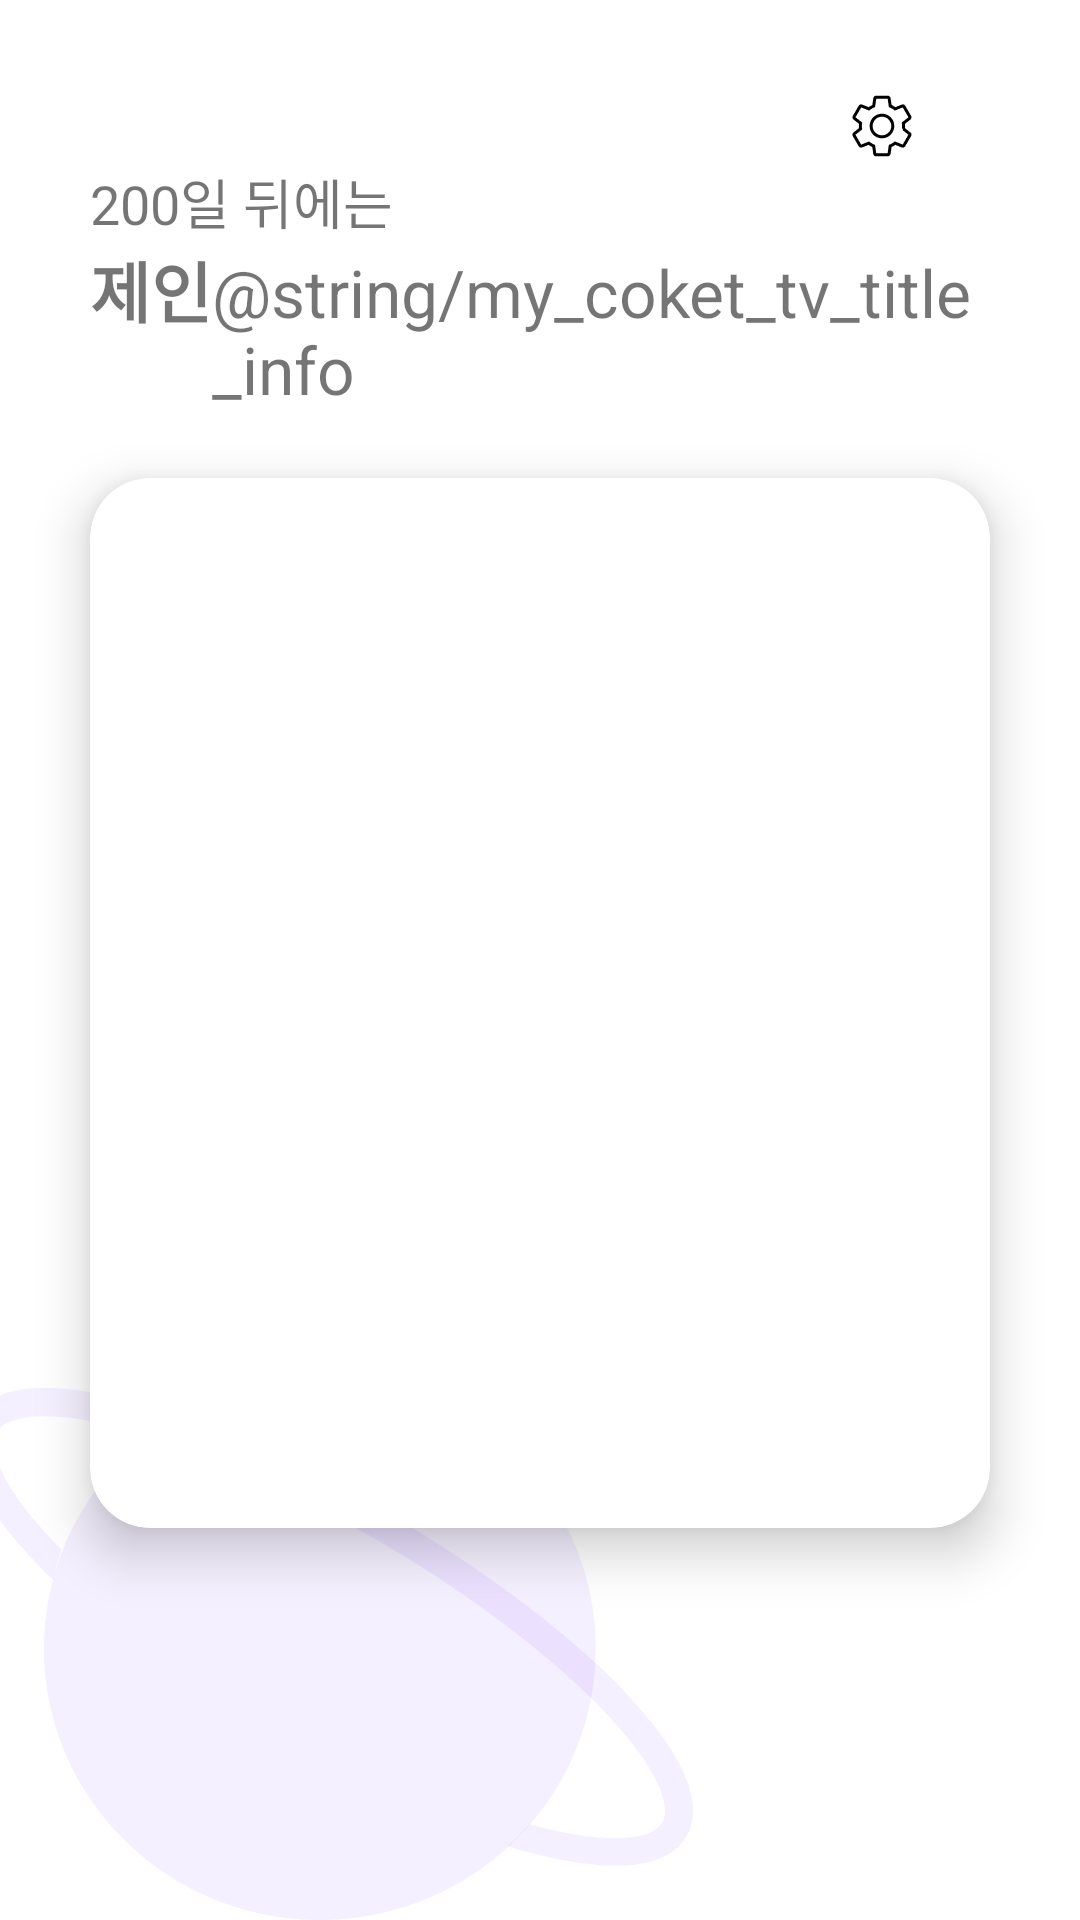

Named icons in this screenshot (1080 × 1920) and their centers, point (x, y):
setting: point (882, 126)
